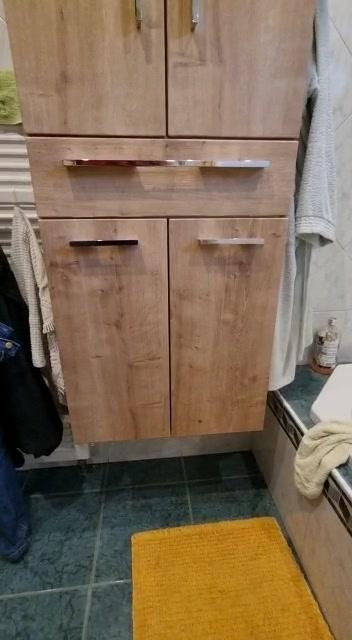cabinet_door: (165, 216, 276, 433), (60, 222, 167, 442), (30, 138, 298, 216), (18, 0, 166, 138), (167, 0, 304, 142)
handle: (57, 151, 275, 177), (66, 233, 145, 256), (191, 231, 269, 254), (128, 0, 150, 39), (184, 0, 206, 37)
